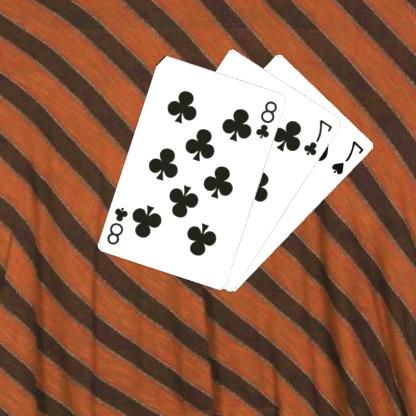7C: (302, 116, 336, 157)
7S: (330, 138, 368, 176)
8C: (255, 98, 280, 140), (106, 204, 131, 246)
